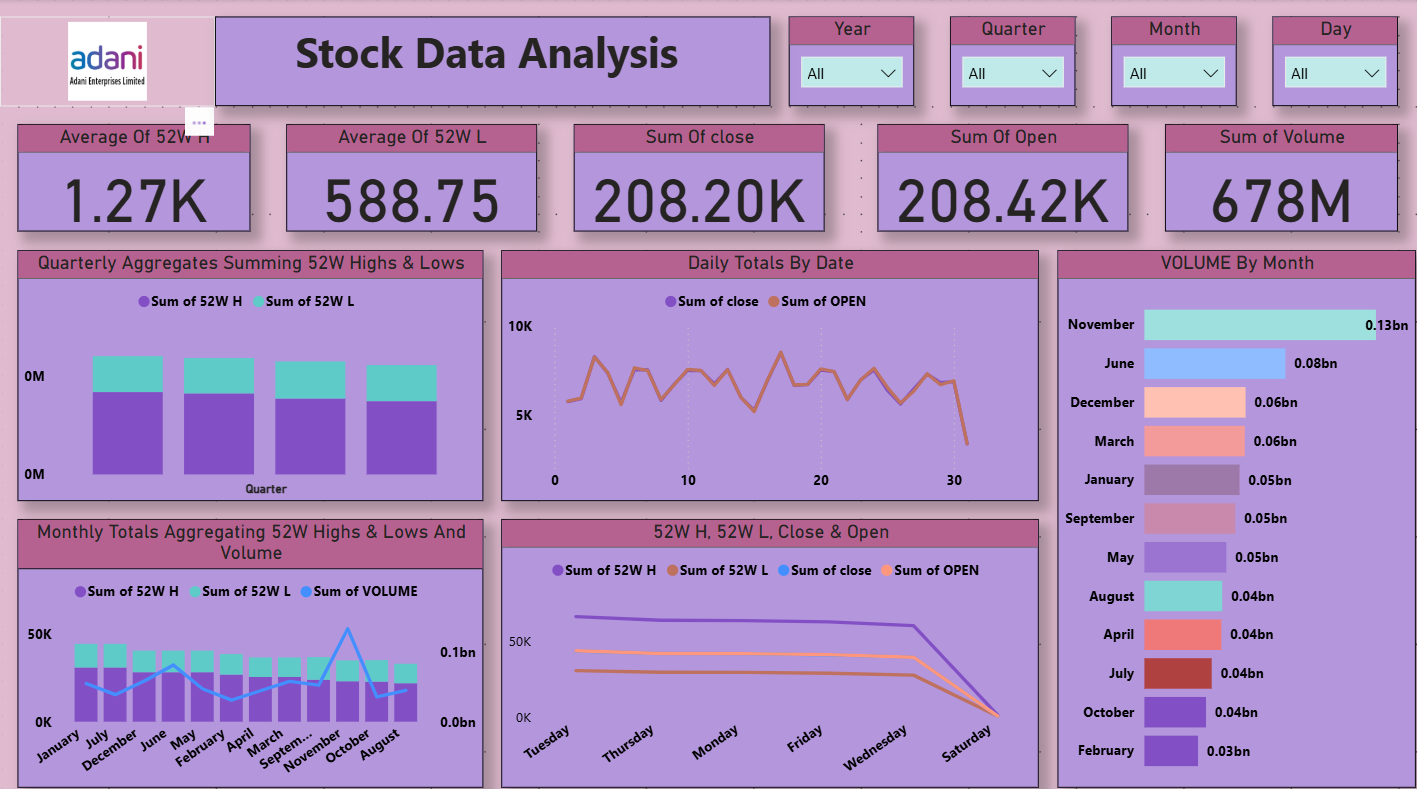

Layout of this report page (visuals, bound fields, positions):
{"tool":"powerbi","page":{"name":"Page 1","canvas":[1280,720],"ordinal":0},"visuals":[{"type":"slicer","title":"Day","fields":{"Values":["Quote-Equity-ADANIENSOL-EQ-21-11-2024-to-21-11-2025.Day"]},"box":[1136,16,112,80],"z":0},{"type":"slicer","title":"Month","fields":{"Values":["Quote-Equity-ADANIENSOL-EQ-21-11-2024-to-21-11-2025.Month"]},"box":[992,16,112,80],"z":1000},{"type":"slicer","title":"Quarter","fields":{"Values":["Quote-Equity-ADANIENSOL-EQ-21-11-2024-to-21-11-2025.Quarter"]},"box":[848,16,112,80],"z":2000},{"type":"slicer","title":"Year","fields":{"Values":["Quote-Equity-ADANIENSOL-EQ-21-11-2024-to-21-11-2025.Year"]},"box":[704,16,112,80],"z":3000},{"type":"card","title":"Average Of 52W H","fields":{"Values":["Avg(Quote-Equity-ADANIENSOL-EQ-21-11-2024-to-21-11-2025.52W H )"]},"box":[16,112,208,96],"z":4000},{"type":"card","title":"Average Of 52W L","fields":{"Values":["Avg(Quote-Equity-ADANIENSOL-EQ-21-11-2024-to-21-11-2025.52W L )"]},"box":[256,112,224,96],"z":5000},{"type":"card","title":"Sum Of close","fields":{"Values":["Sum(Quote-Equity-ADANIENSOL-EQ-21-11-2024-to-21-11-2025.close )"]},"box":[512,112,224,96],"z":6000},{"type":"card","title":"Sum Of Open","fields":{"Values":["Sum(Quote-Equity-ADANIENSOL-EQ-21-11-2024-to-21-11-2025.OPEN )"]},"box":[784,112,224,96],"z":7000},{"type":"card","title":"Sum of Volume","fields":{"Values":["Sum(Quote-Equity-ADANIENSOL-EQ-21-11-2024-to-21-11-2025.VOLUME )"]},"box":[1040,112,208,96],"z":8000},{"type":"columnChart","title":"Quarterly Aggregates Summing 52W Highs & Lows","fields":{"Y":["Sum(Quote-Equity-ADANIENSOL-EQ-21-11-2024-to-21-11-2025.52W H )","Sum(Quote-Equity-ADANIENSOL-EQ-21-11-2024-to-21-11-2025.52W L )"],"Category":["Quote-Equity-ADANIENSOL-EQ-21-11-2024-to-21-11-2025.Quarter"]},"box":[16,224,416,224],"z":9000},{"type":"lineStackedColumnComboChart","title":"Monthly Totals Aggregating 52W Highs & Lows And Volume","fields":{"Category":["Quote-Equity-ADANIENSOL-EQ-21-11-2024-to-21-11-2025.Month"],"Y":["Sum(Quote-Equity-ADANIENSOL-EQ-21-11-2024-to-21-11-2025.52W H )","Sum(Quote-Equity-ADANIENSOL-EQ-21-11-2024-to-21-11-2025.52W L )"],"Y2":["Sum(Quote-Equity-ADANIENSOL-EQ-21-11-2024-to-21-11-2025.VOLUME )"]},"box":[16,464,416,240],"z":10000},{"type":"lineChart","title":"Daily Totals By Date","fields":{"Category":["Quote-Equity-ADANIENSOL-EQ-21-11-2024-to-21-11-2025.Date .Variation.Date Hierarchy.Day"],"Y":["Sum(Quote-Equity-ADANIENSOL-EQ-21-11-2024-to-21-11-2025.close )","Sum(Quote-Equity-ADANIENSOL-EQ-21-11-2024-to-21-11-2025.OPEN )"]},"box":[448,224,480,224],"z":11000},{"type":"lineChart","title":"52W H, 52W L, Close & Open","fields":{"Y":["Sum(Quote-Equity-ADANIENSOL-EQ-21-11-2024-to-21-11-2025.52W H )","Sum(Quote-Equity-ADANIENSOL-EQ-21-11-2024-to-21-11-2025.52W L )","Sum(Quote-Equity-ADANIENSOL-EQ-21-11-2024-to-21-11-2025.close )","Sum(Quote-Equity-ADANIENSOL-EQ-21-11-2024-to-21-11-2025.OPEN )"],"Category":["Quote-Equity-ADANIENSOL-EQ-21-11-2024-to-21-11-2025.Day"]},"box":[448,464,480,240],"z":12000},{"type":"clusteredBarChart","title":"VOLUME  By Month","fields":{"Category":["Quote-Equity-ADANIENSOL-EQ-21-11-2024-to-21-11-2025.Month"],"Y":["Sum(Quote-Equity-ADANIENSOL-EQ-21-11-2024-to-21-11-2025.VOLUME )"]},"box":[944,224,320,480],"z":13000},{"type":"image","box":[0,16,192,80],"z":14000},{"type":"textbox","box":[192,16,496,80],"z":15000}]}

Visuals, with their boxes in screenshot pixels (x1, y1, x2, y2), scaled from the page's 1280x720 canvas onto the 1417x789 screenshot:
"Day" slicer: select_region(1258, 18, 1382, 105)
"Month" slicer: select_region(1098, 18, 1222, 105)
"Quarter" slicer: select_region(939, 18, 1063, 105)
"Year" slicer: select_region(779, 18, 903, 105)
"Average Of 52W H" card: select_region(18, 123, 248, 228)
"Average Of 52W L" card: select_region(283, 123, 531, 228)
"Sum Of close" card: select_region(567, 123, 815, 228)
"Sum Of Open" card: select_region(868, 123, 1116, 228)
"Sum of Volume" card: select_region(1151, 123, 1382, 228)
"Quarterly Aggregates Summing 52W Highs & Lows" columnChart: select_region(18, 245, 478, 491)
"Monthly Totals Aggregating 52W Highs & Lows And Volume" lineStackedColumnComboChart: select_region(18, 508, 478, 771)
"Daily Totals By Date" lineChart: select_region(496, 245, 1027, 491)
"52W H, 52W L, Close & Open" lineChart: select_region(496, 508, 1027, 771)
"VOLUME  By Month" clusteredBarChart: select_region(1045, 245, 1399, 771)
image: select_region(0, 18, 213, 105)
textbox: select_region(213, 18, 762, 105)
